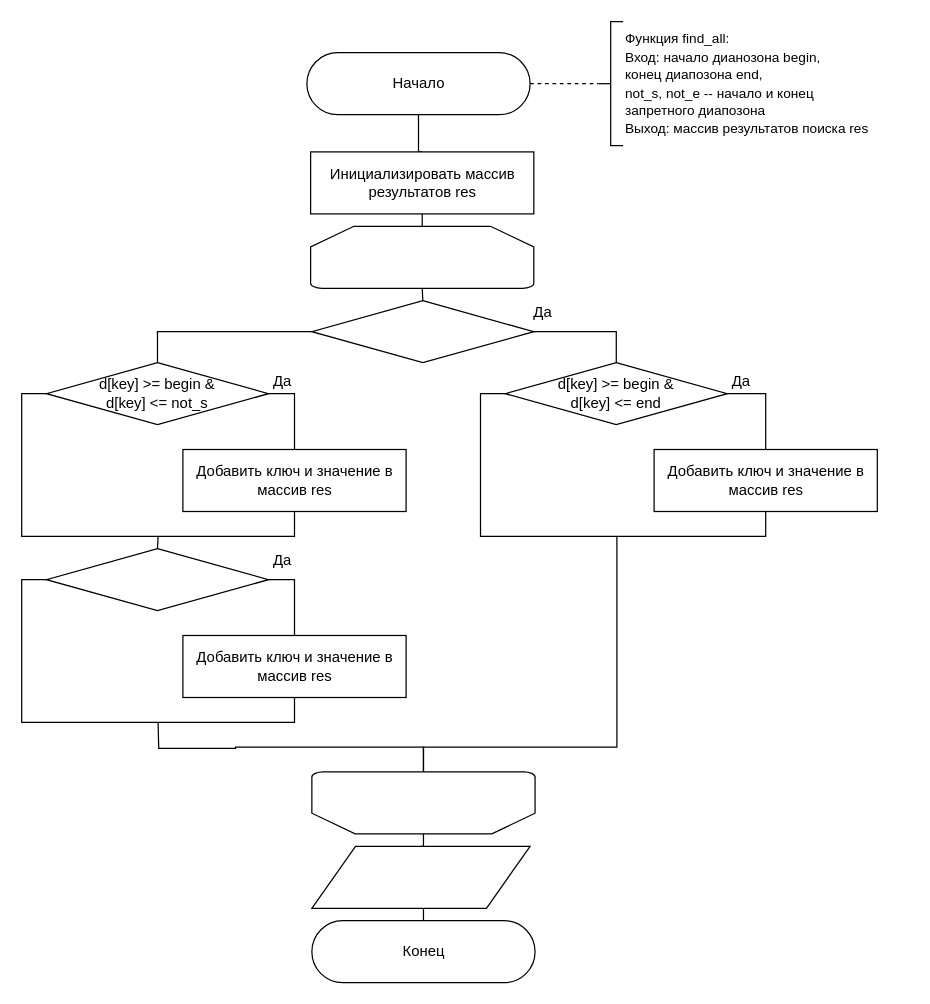
The diagram is 930 pixels wide and 1004 high, and some of its shapes have lost their labels. Here are the shapes that lost their labels. From the top down, the centre of each, then its label:
At point 421,256: "key in keys".
At point 422,331: "not_s != -1 & nor_e != -1".
At point 156,579: "d[key] >= not_e & d[key] <= end".
At point 420,876: "Вернуть массив res".
